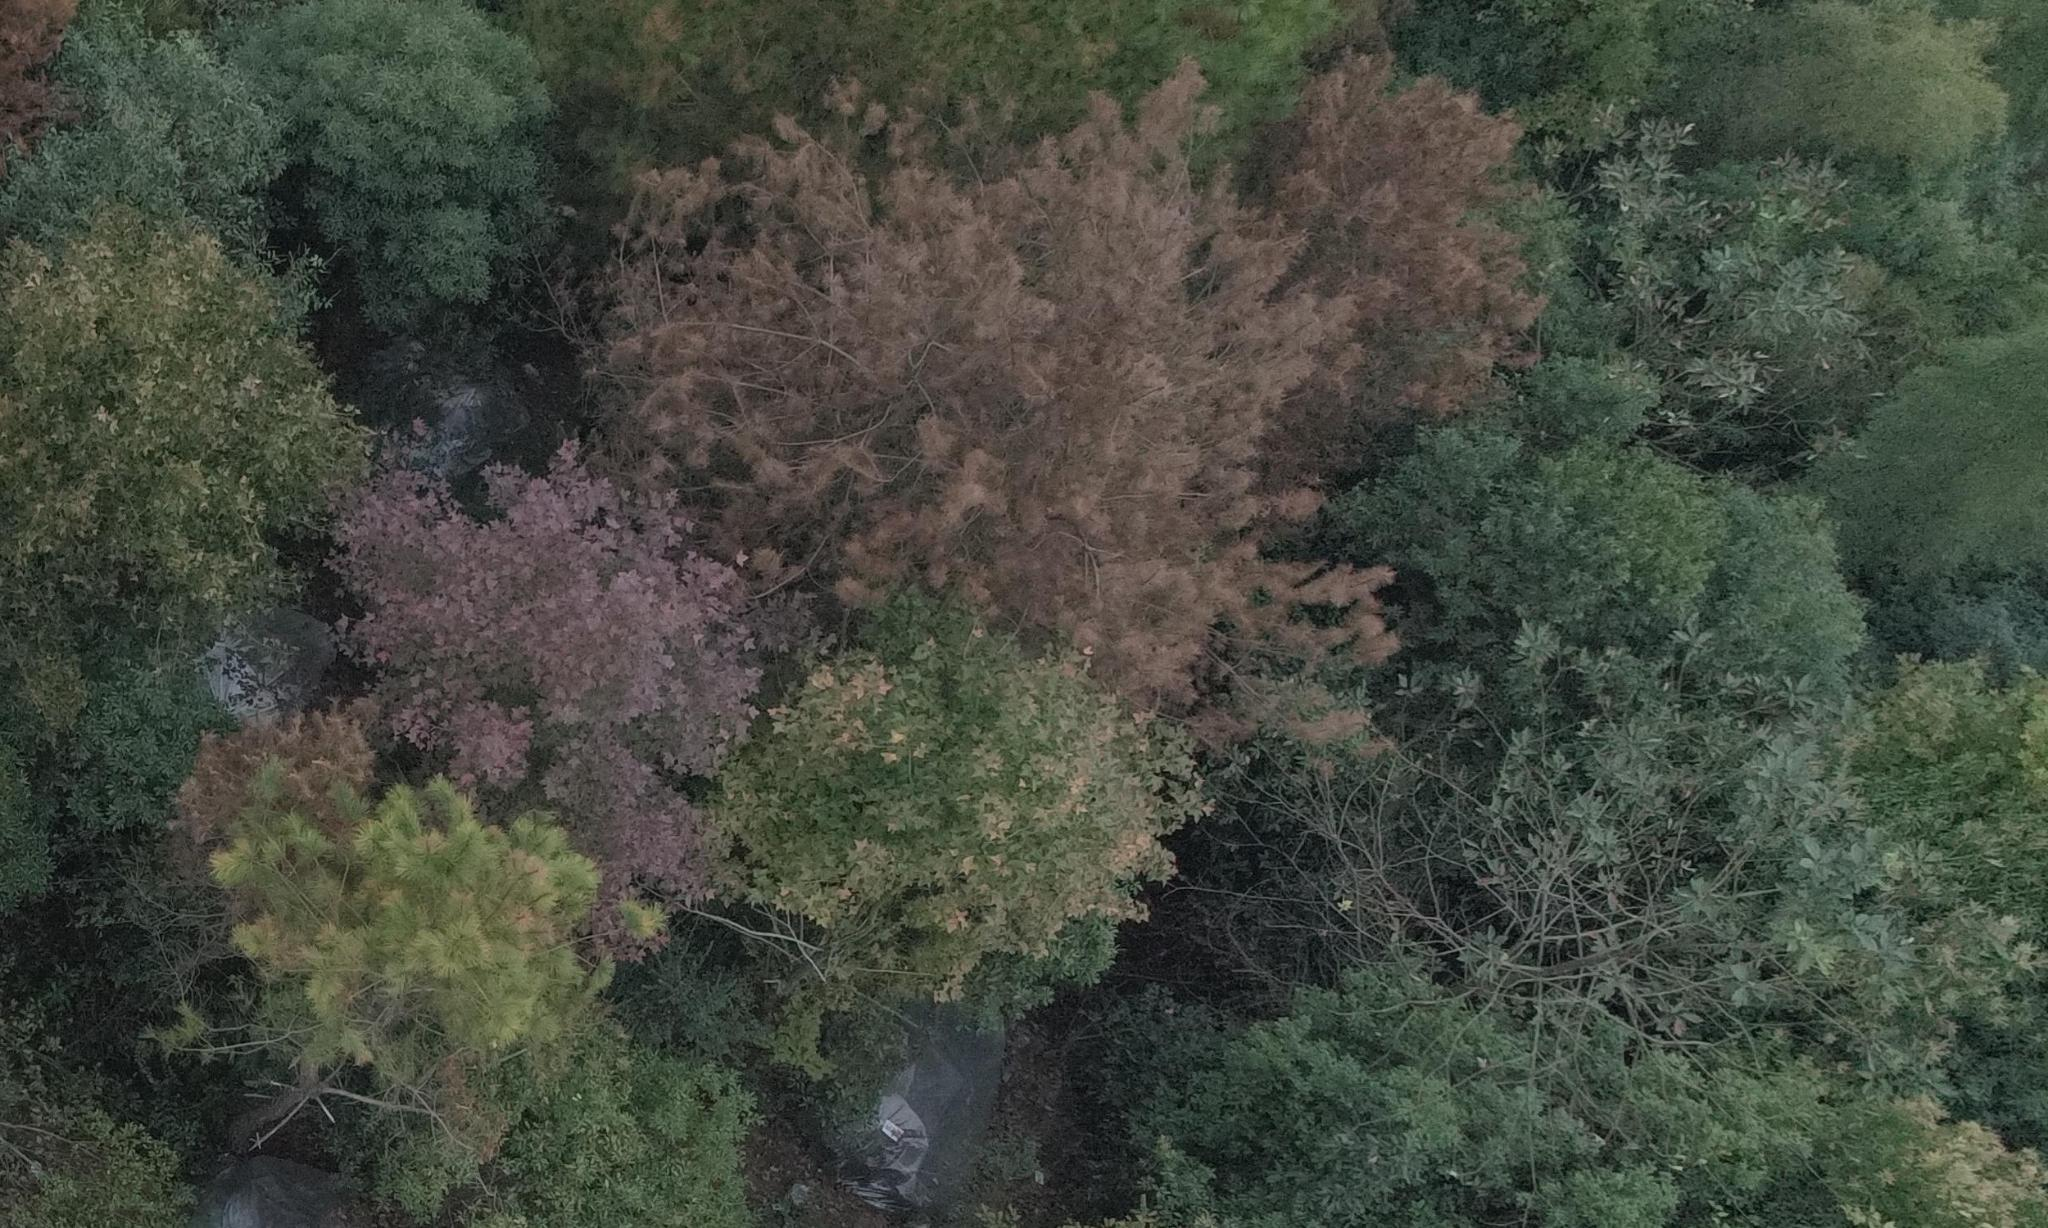heavy: (586, 99, 1250, 693), (1283, 39, 1536, 406)
light: (199, 760, 608, 1054)
